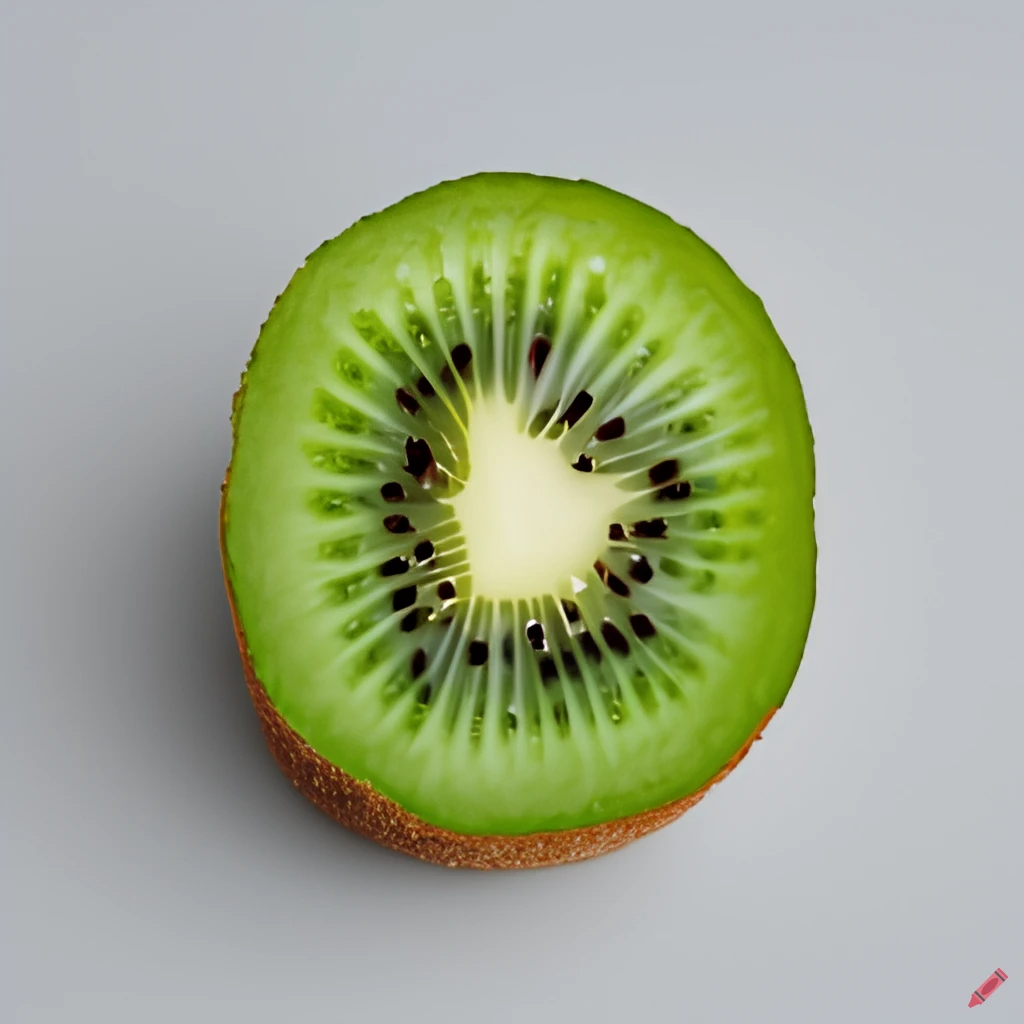Kiwi: (148, 168, 858, 874)
